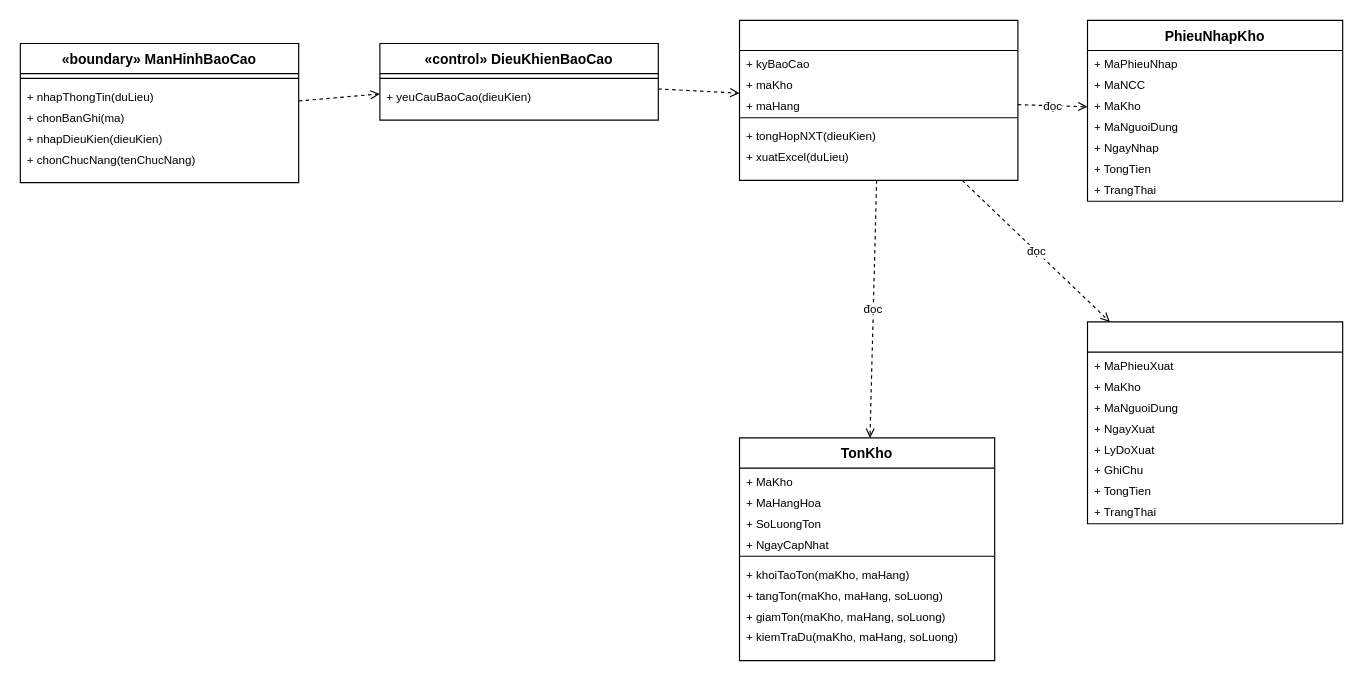
This 1363x681 diagram has some shape labels left out. The shapes that lost their labels are listed below. From the top down, each one's box as (x1, y1, x2, y2) in pixels, then its label:
(738, 19, 1018, 180): «control» BaoCaoNXT
(1086, 321, 1343, 524): PhieuXuatKho
